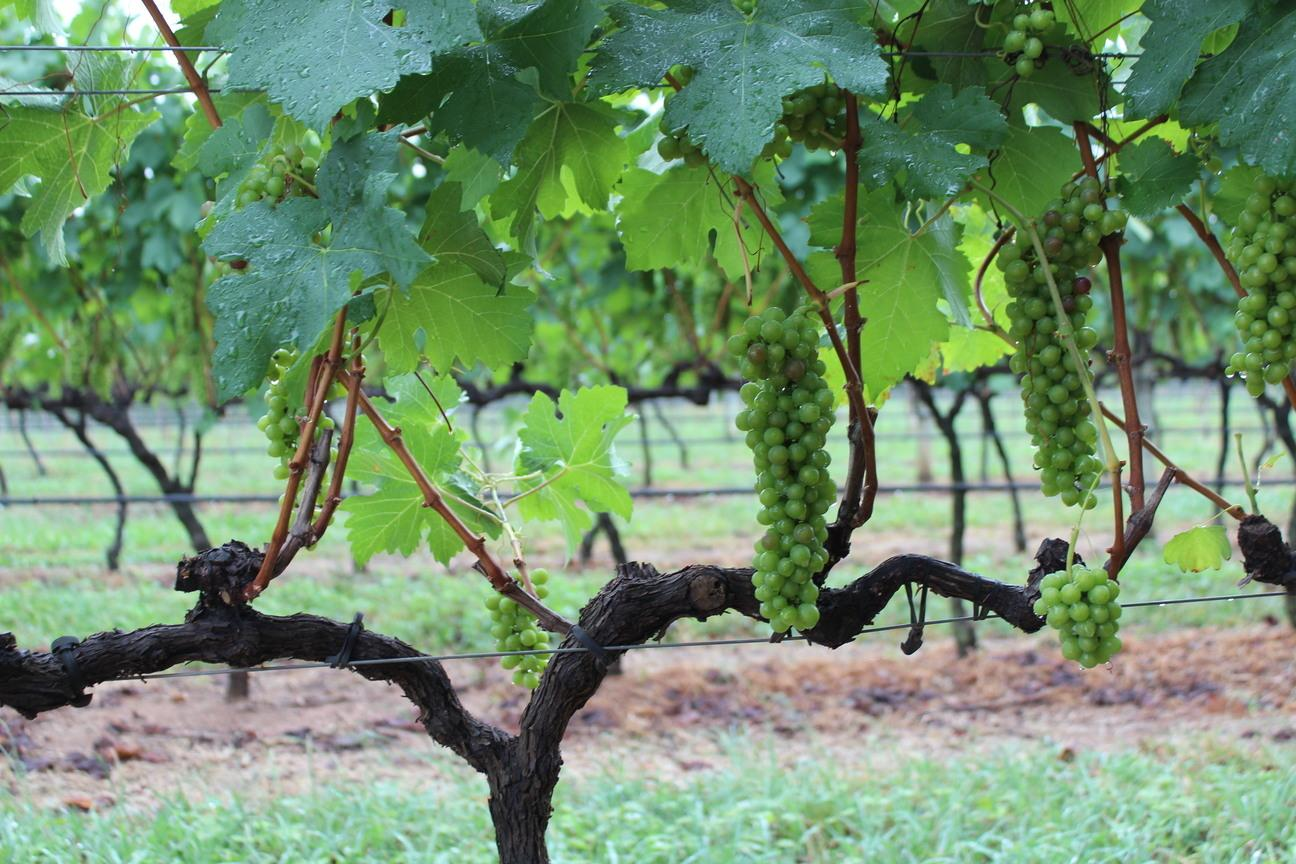leaf: (204, 130, 429, 399), (591, 0, 886, 175), (205, 0, 479, 130), (380, 0, 598, 163), (0, 105, 159, 263), (855, 187, 969, 391), (492, 102, 627, 256), (1179, 1, 1295, 175), (516, 387, 631, 550), (858, 83, 1008, 198), (380, 260, 533, 371), (1123, 0, 1253, 117), (1120, 136, 1200, 216), (1164, 526, 1229, 571), (810, 194, 841, 244), (810, 252, 834, 271)
